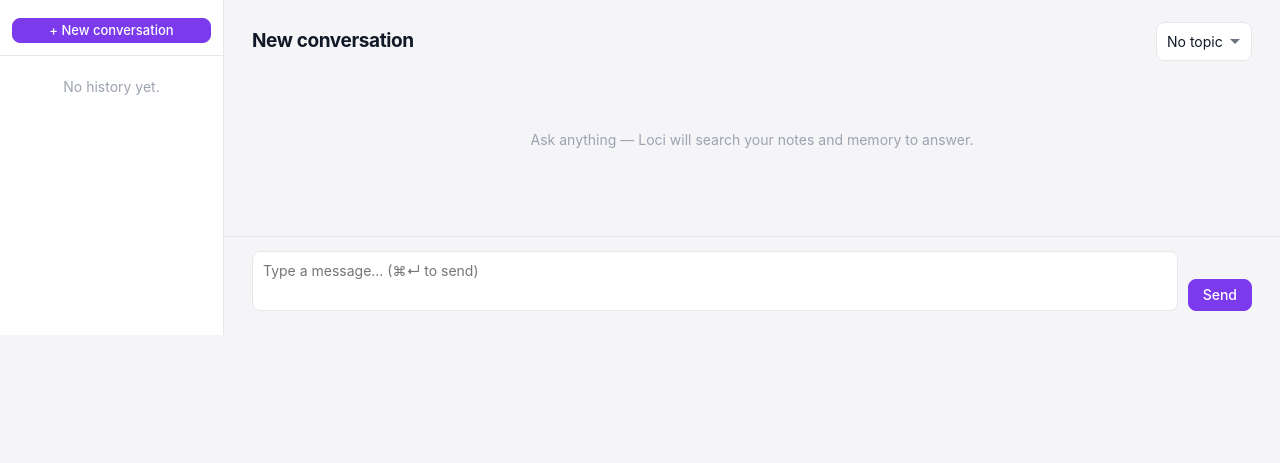
Test: Ask › toggles the context panel after a reply
Type "q" into the text box with placeholder "Type a message… (⌘↵ to send)" at (715, 281), box [252,251,1178,311]
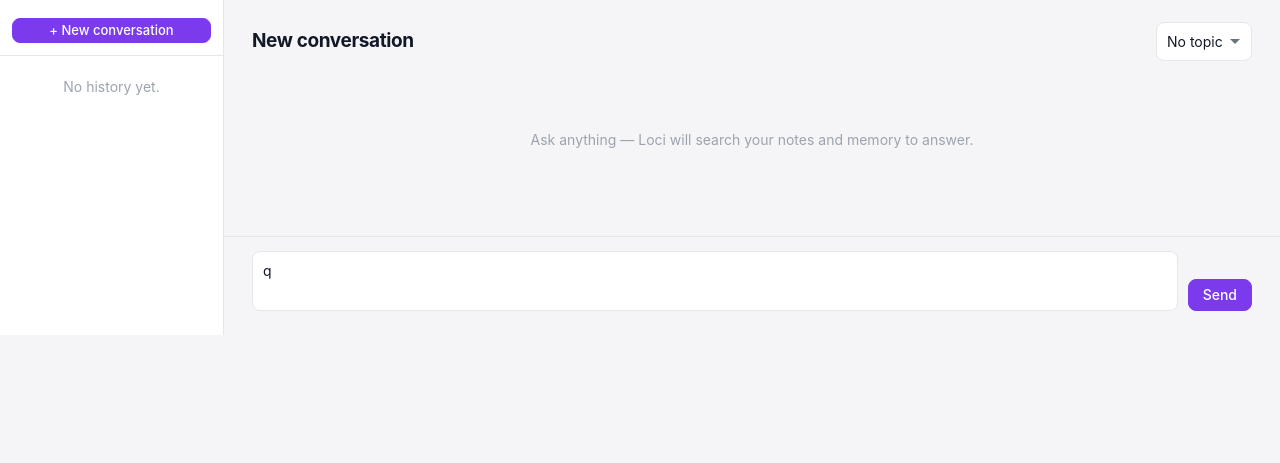
Click the button "Send" at (1220, 295), box [1188,279,1252,311]
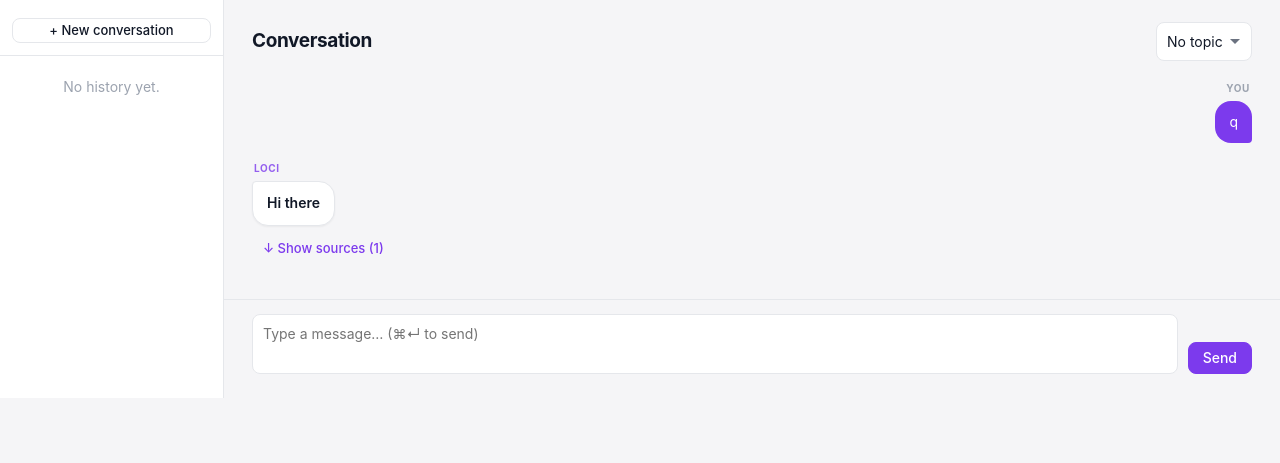
Click the button "↓ Show sources (1)" at (323, 248), box [252,236,395,261]
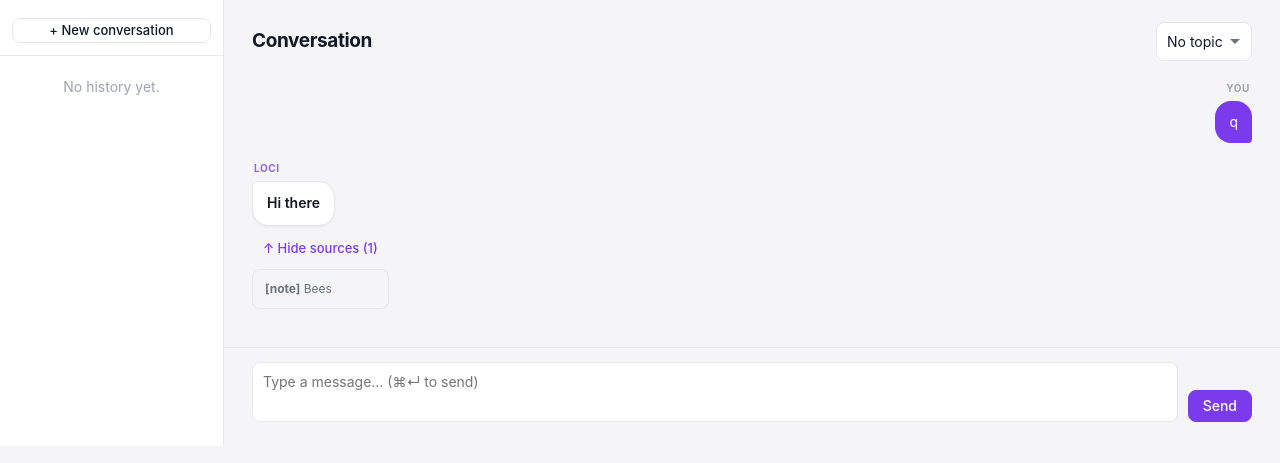
Check: the list with test id "context-panel" showing "[note] Bees" is shown, box [265,281,332,296]
